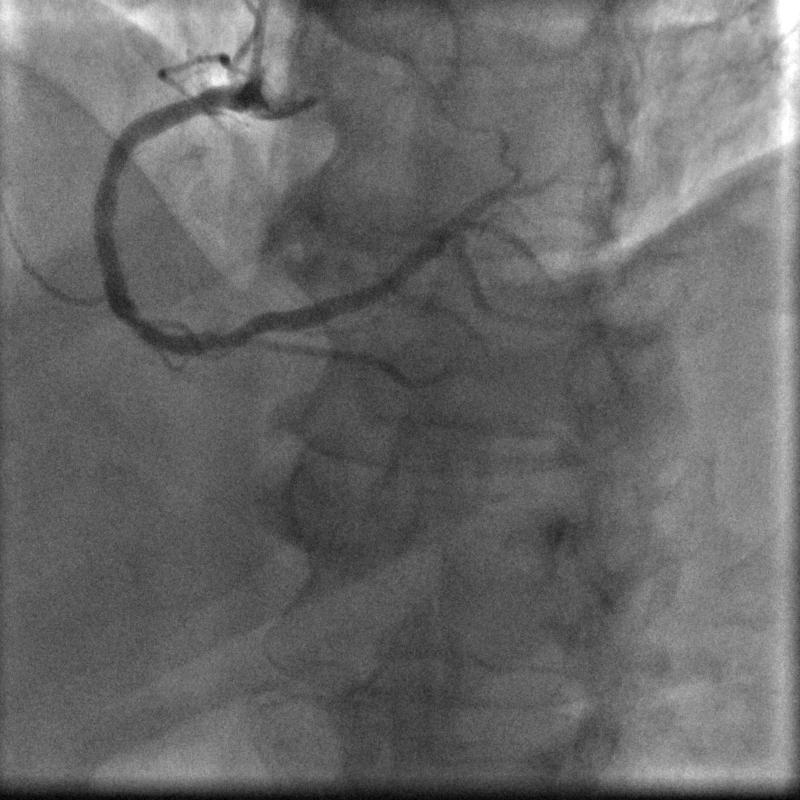Stenosis: (186, 314, 264, 351)
